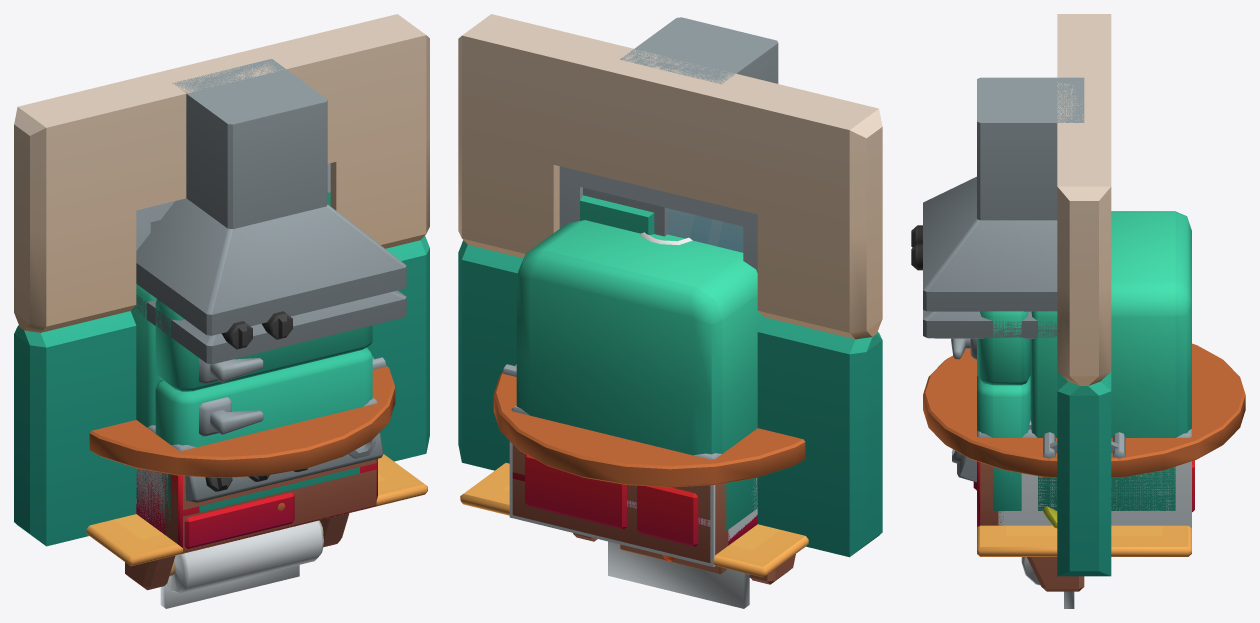
Rendered from props.glb.
3 renders of one model, left to right at view 1: azimuth 30°, elevation 25°; view 2: azimuth 150°, elevation 25°; view 3: azimuth 270°, elevation 25°, orthographic. The views are drawn at different scales.
Parts seen in each view (by area): view 1: wall_window_closed, extractorhood, fridge_A_door_bottom, table_round_A, shelf_papertowel_decorated, stove_single, fridge_A_door_top, crate_steak, rug_rectangle_stripes_A, fridge_A, kitchencounter_straight_A; view 2: wall_window_closed, fridge_A, table_round_A, stove_single, extractorhood, crate_steak, shelf_papertowel_decorated, rug_rectangle_stripes_A, door_A, kitchencounter_straight_A, pictureframe_large_A; view 3: extractorhood, wall_window_closed, fridge_A, table_round_A, rug_rectangle_stripes_A, fridge_A_door_bottom, kitchencounter_straight_A, fridge_A_door_top, kitchencounter_sink, shelf_papertowel_decorated, stove_single, crate_steak (+1 smaller).
Boxes of the visible parts, x1,y1,x2,y2 form: wall_window_closed: (14,14,429,546); extractorhood: (133,59,406,364); fridge_A_door_bottom: (155,347,372,522); table_round_A: (89,365,395,477); shelf_papertowel_decorated: (125,513,349,608); stove_single: (136,397,383,553); fridge_A_door_top: (155,299,372,391); crate_steak: (165,459,376,552); rug_rectangle_stripes_A: (86,454,427,566); fridge_A: (131,284,162,500); kitchencounter_straight_A: (136,468,285,532); wall_window_closed: (458,14,882,557); fridge_A: (516,220,763,531); table_round_A: (493,372,805,487); stove_single: (511,405,757,554); extractorhood: (620,17,778,84); crate_steak: (512,444,728,562); shelf_papertowel_decorated: (573,533,795,608); rug_rectangle_stripes_A: (460,463,808,577); door_A: (502,187,667,376); kitchencounter_straight_A: (509,409,757,566); pictureframe_large_A: (619,544,726,574); extractorhood: (911,77,1084,338); wall_window_closed: (1057,14,1111,576); fridge_A: (1030,211,1191,510); table_round_A: (923,343,1245,477); rug_rectangle_stripes_A: (977,525,1191,556); fridge_A_door_bottom: (951,338,1030,510); kitchencounter_straight_A: (998,437,1191,528); fridge_A_door_top: (977,311,1030,385); kitchencounter_sink: (998,437,1191,527); shelf_papertowel_decorated: (1021,557,1084,608); stove_single: (952,420,1194,526); crate_steak: (980,462,1003,525).
Size of the model in its own units: 4 by 4.91 by 3.11.
2 materials, 2 textured.
